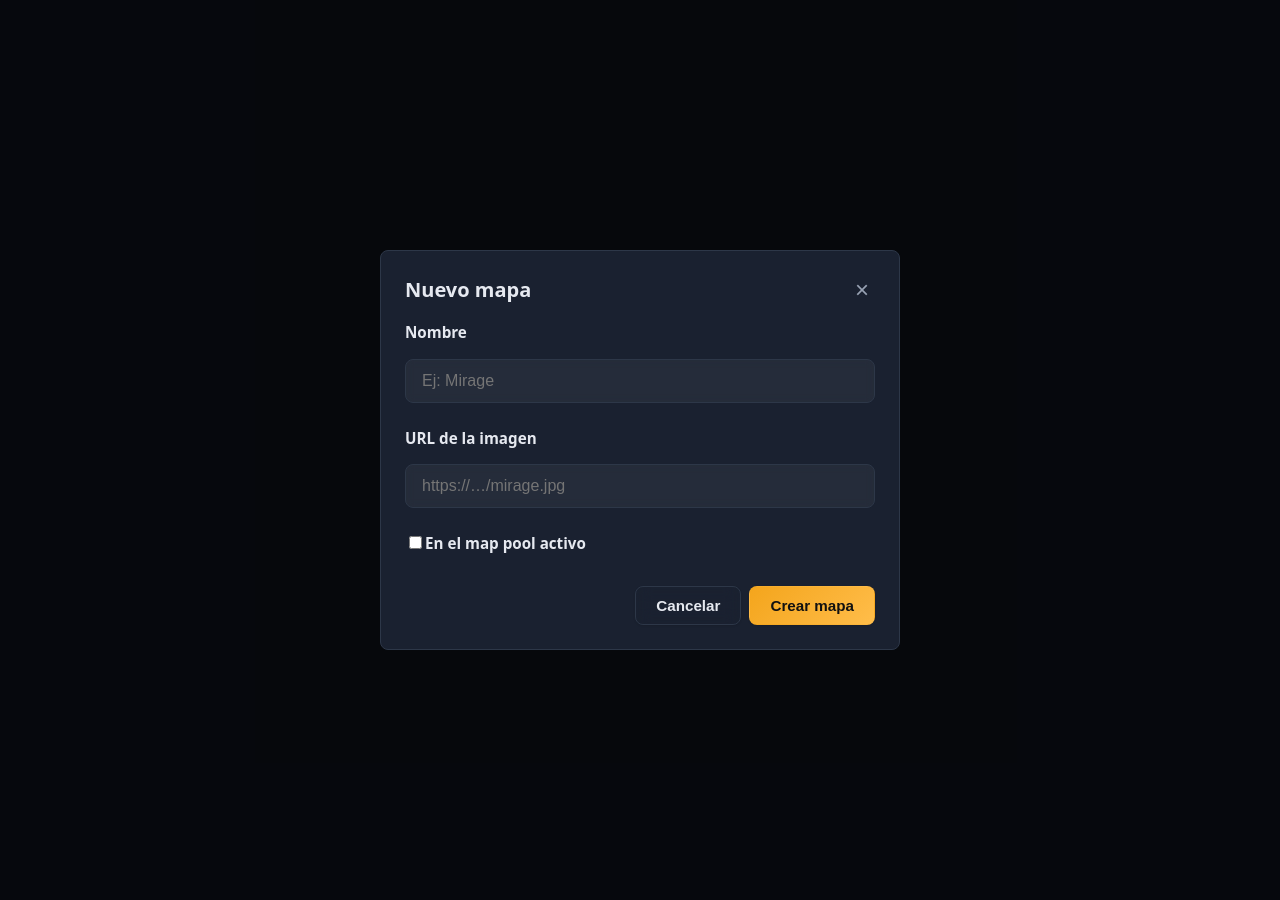
Test: MapFormModal › sends server field errors back to the form
Type "Mirage" into the field labelled "Nombre" at (640, 380), box [405,358,875,402]
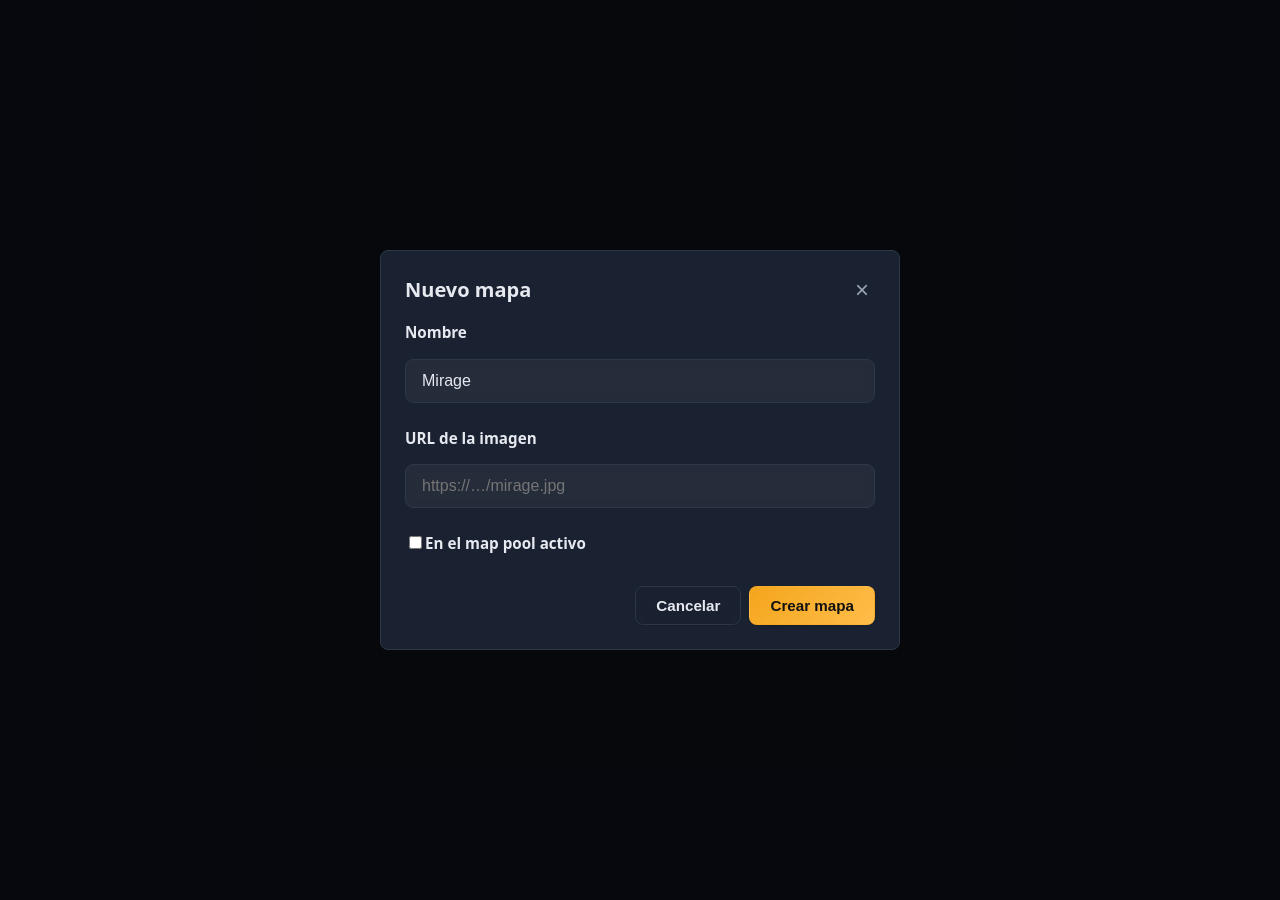
Type "https://x/y.jpg" into the field labelled "URL de la imagen" at (640, 486), box [405,464,875,508]
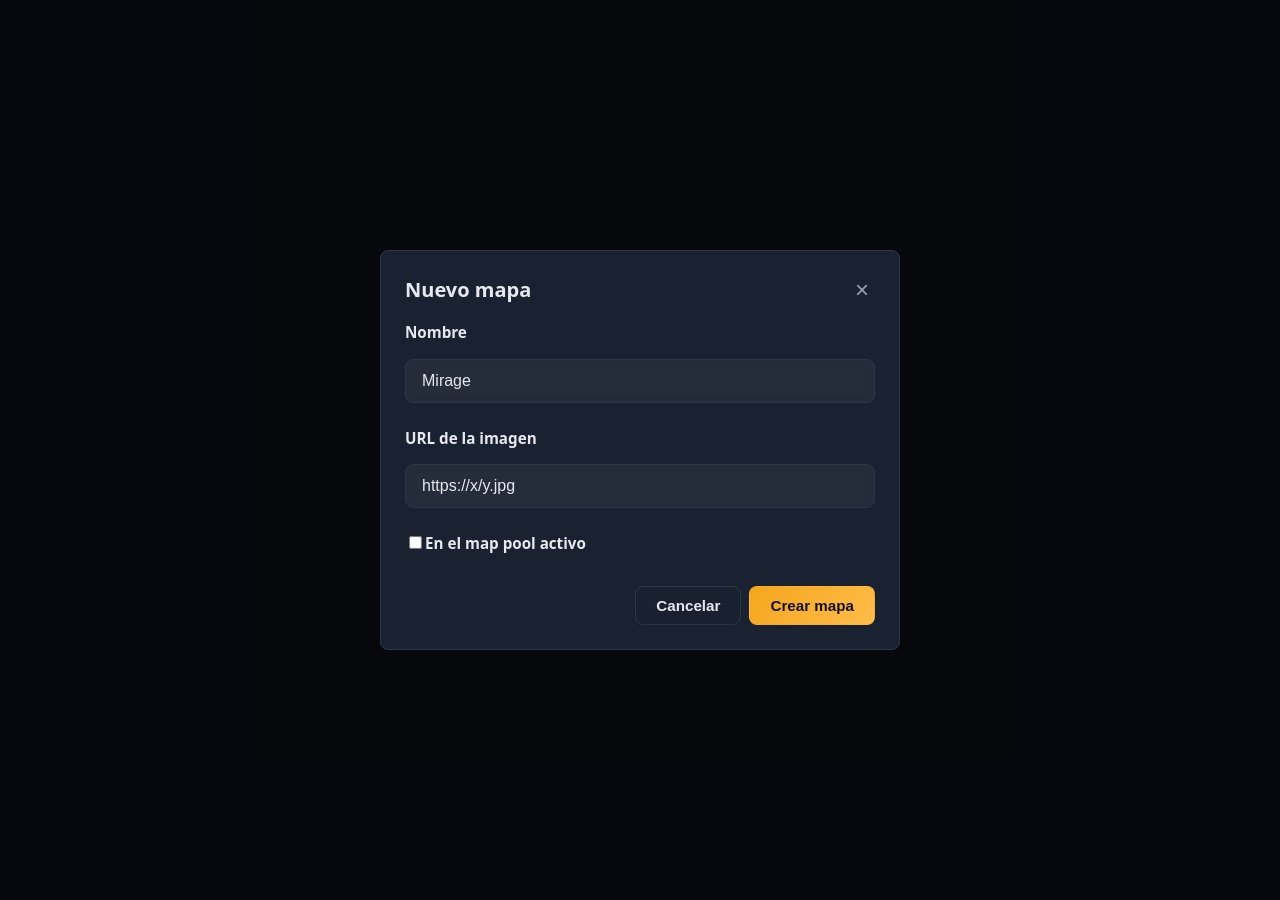
Submit the form "Crear mapa", box [405,321,875,625]
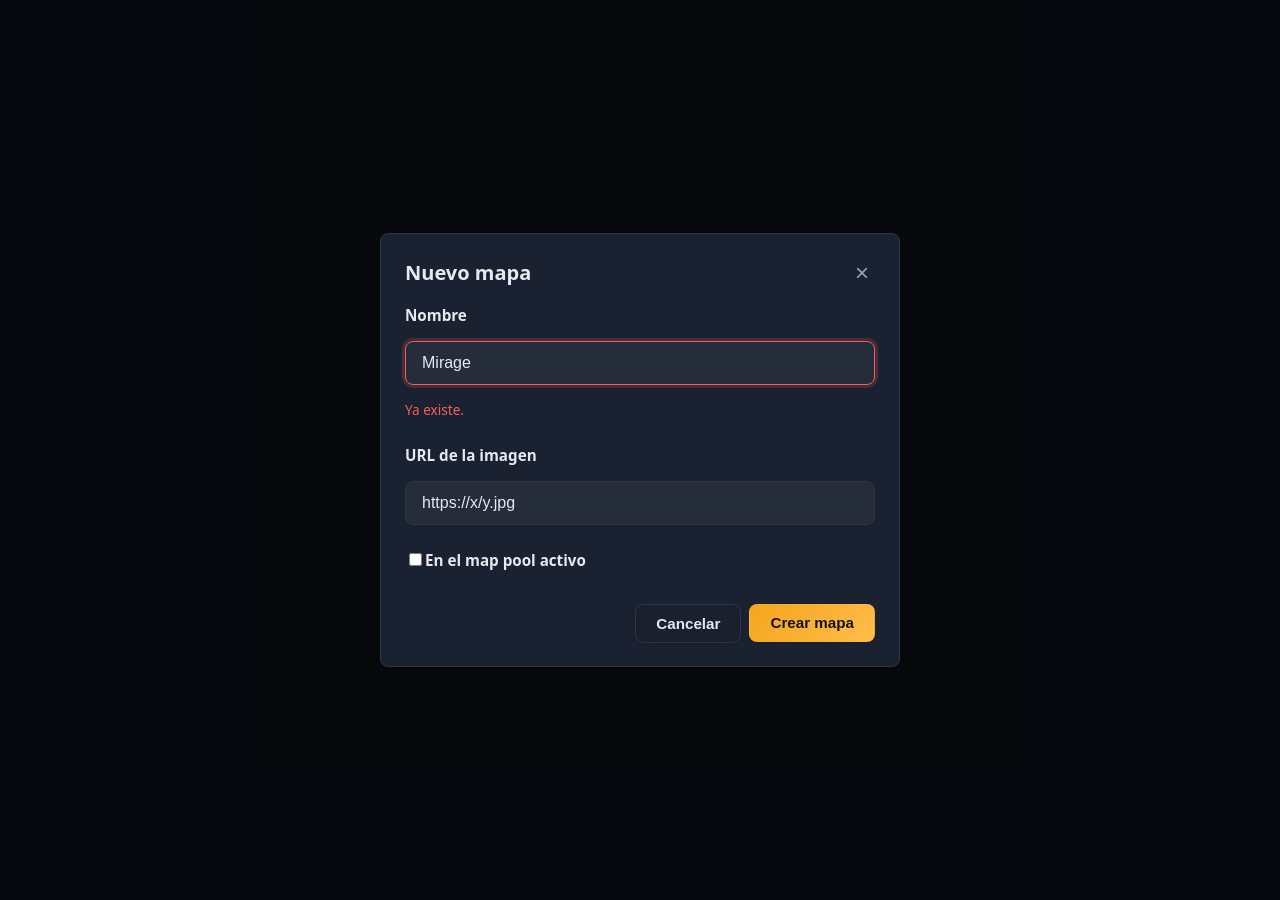
Expected: the text "Ya existe." is shown, [405,400,464,418]
